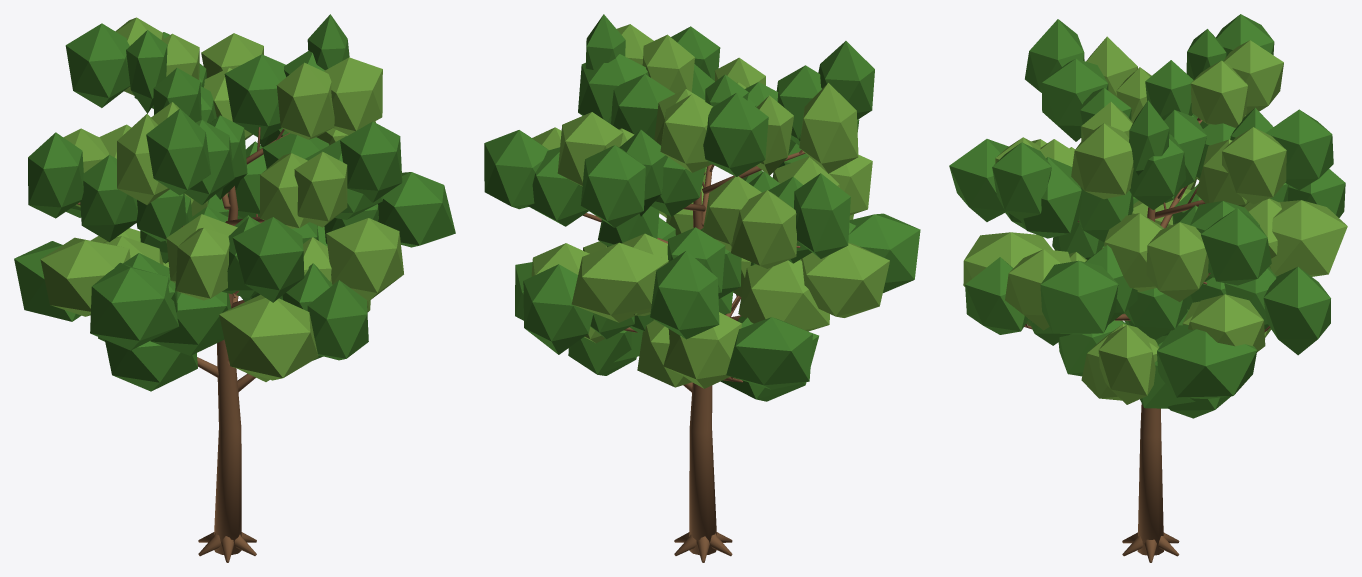
File: maple-light-batched.glb
The picture shows the model from 3 angles, left to right: view 1: azimuth 30°, elevation 25°; view 2: azimuth 150°, elevation 25°; view 3: azimuth 270°, elevation 25°; orthographic projection. The views are drawn at different scales.
Visible parts, largest first — view 1: foliage_material_1, foliage_material_2, foliage_material_0; view 2: foliage_material_1, foliage_material_2, foliage_material_0; view 3: foliage_material_1, foliage_material_2, foliage_material_0.
Part boxes in pixels (bbox=[...]): foliage_material_1: bbox=[14, 14, 455, 391]; foliage_material_2: bbox=[40, 17, 403, 381]; foliage_material_0: bbox=[77, 127, 289, 562]; foliage_material_1: bbox=[484, 14, 920, 401]; foliage_material_2: bbox=[531, 24, 889, 388]; foliage_material_0: bbox=[583, 150, 805, 562]; foliage_material_1: bbox=[949, 14, 1345, 418]; foliage_material_2: bbox=[963, 36, 1347, 404]; foliage_material_0: bbox=[1024, 117, 1270, 562].
Size of the model in its own units: 6.93 by 9.5 by 6.89.
